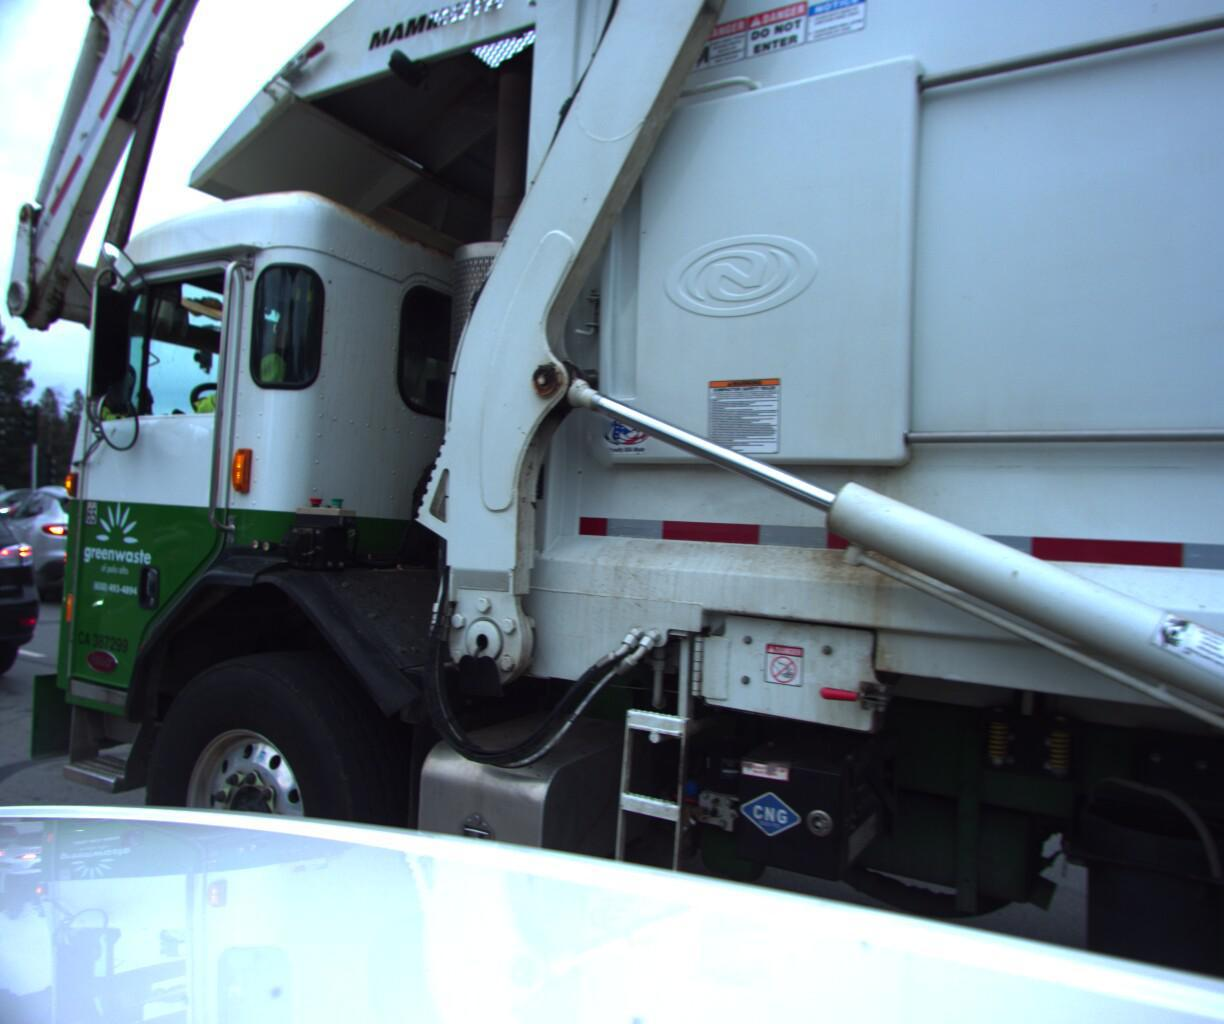car: (0, 487, 183, 615), (0, 446, 58, 729), (0, 491, 119, 534), (0, 486, 78, 532), (0, 485, 38, 535)
